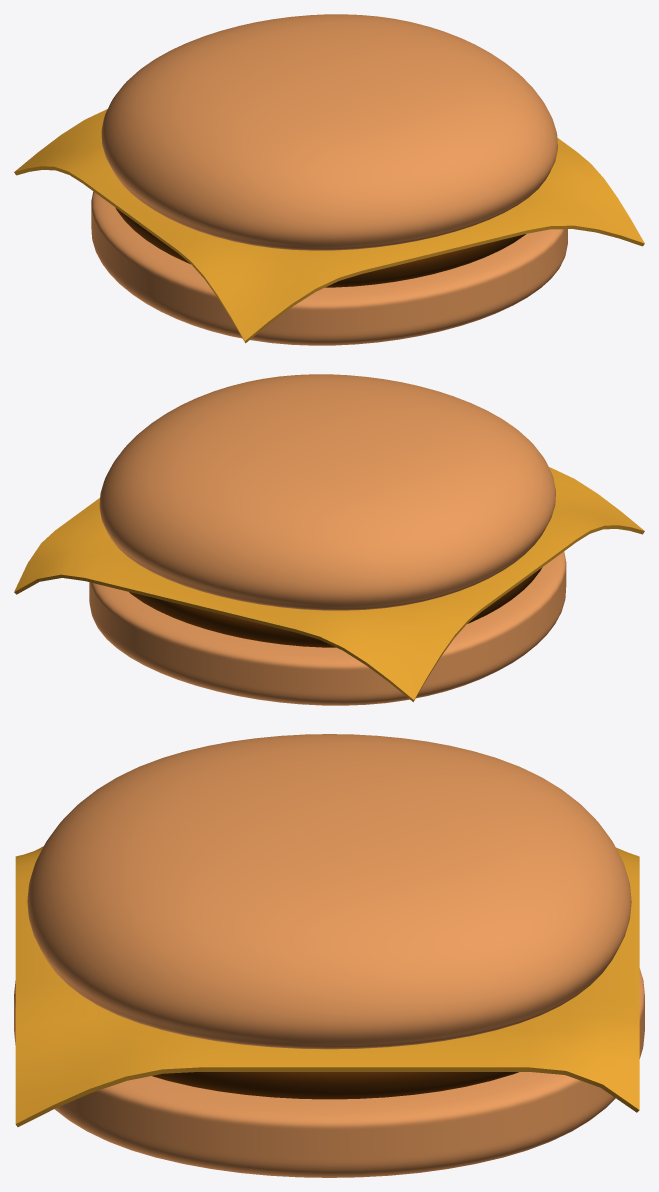
Rendered from hamburger.glb.
The picture shows the model from 3 angles, top to bottom: view 1: azimuth 30°, elevation 25°; view 2: azimuth 150°, elevation 25°; view 3: azimuth 270°, elevation 25°; orthographic projection. The views are drawn at different scales.
Visible parts, largest first — view 1: Cube.002, Plane, Cube, Cube.001; view 2: Cube.002, Plane, Cube, Cube.001; view 3: Cube.002, Plane, Cube, Cube.001.
Part boxes in pixels (left/top/right/bottom): Cube.002: left=101, top=14, right=557, bottom=250; Plane: left=14, top=109, right=644, bottom=343; Cube: left=91, top=191, right=567, bottom=345; Cube.001: left=115, top=207, right=525, bottom=287; Cube.002: left=99, top=374, right=555, bottom=610; Plane: left=14, top=467, right=644, bottom=701; Cube: left=89, top=551, right=566, bottom=705; Cube.001: left=129, top=567, right=542, bottom=647; Cube.002: left=27, top=734, right=631, bottom=1049; Plane: left=15, top=846, right=639, bottom=1126; Cube: left=14, top=968, right=644, bottom=1177; Cube.001: left=152, top=1072, right=518, bottom=1099.
Size of the model in its own units: 9.1 by 4.34 by 9.1.
